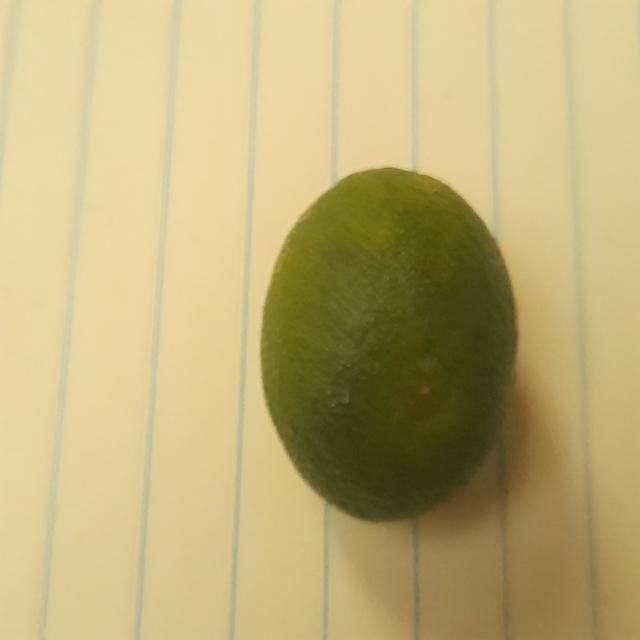heathy: (245, 157, 536, 531)
